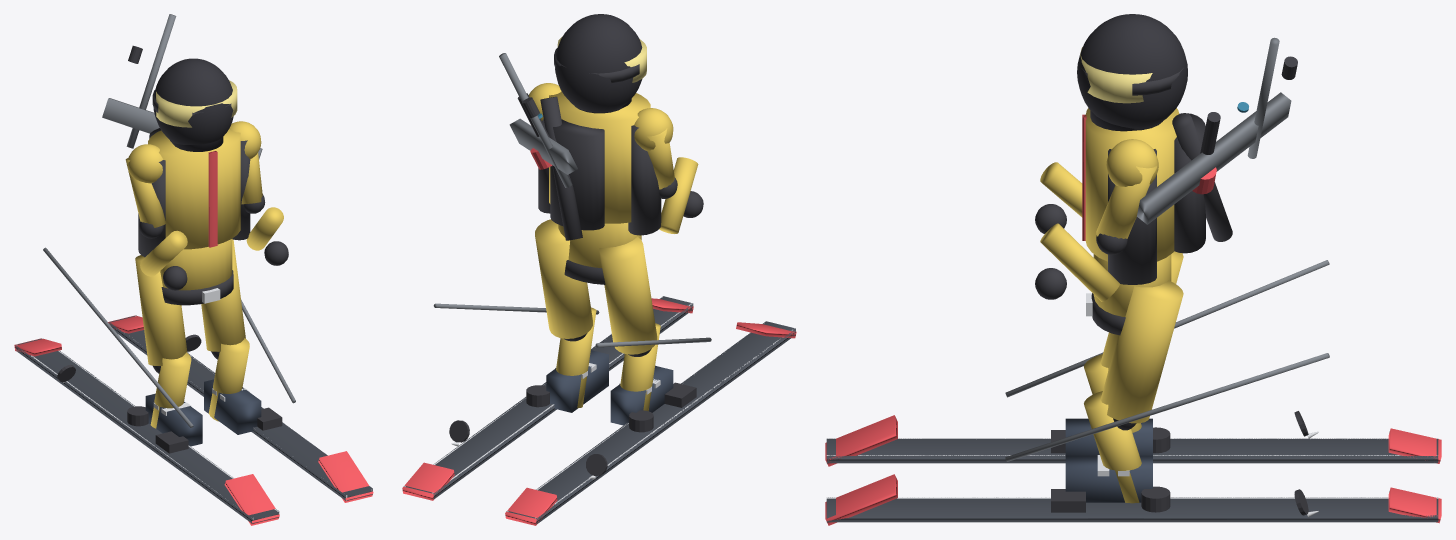
File: skier.glb
3 renders of one model, left to right at view 1: azimuth 30°, elevation 25°; view 2: azimuth 150°, elevation 25°; view 3: azimuth 270°, elevation 25°, orthographic. The views are drawn at different scales.
Parts seen in each view (by area): view 1: SkierChest, Ski_L, RacingHelmet, Ski_R, ThighL, ThighR, SkierWaist, BootR, ShinR, ShinL, SkiTip_R, BootL (+22 smaller); view 2: Ski_L, RacingHelmet, ThighL, Ski_R, SkierChest, ThighR, TacticalPack, FlankL, BootR, SkierWaist, BootL, RifleScabbard (+19 smaller); view 3: Ski_R, Ski_L, RacingHelmet, ThighR, SkierChest, HarpoonRifle_Body, BootR, ShinR, FlankR, Forearm_R, TacticalPack, UpperArm_R (+16 smaller).
Boxes of the visible parts, x1,y1,x2,y2 form: SkierChest: [148, 129, 240, 249]; Ski_L: [15, 338, 279, 523]; RacingHelmet: [153, 58, 233, 144]; Ski_R: [109, 315, 372, 500]; ThighL: [135, 255, 187, 365]; ThighR: [201, 239, 245, 351]; SkierWaist: [160, 239, 232, 290]; BootR: [204, 379, 261, 434]; ShinR: [208, 338, 249, 421]; ShinL: [150, 352, 191, 428]; SkiTip_R: [318, 451, 373, 502]; BootL: [145, 393, 202, 446]; Ski_L: [506, 321, 795, 524]; RacingHelmet: [555, 14, 642, 112]; ThighL: [599, 237, 657, 354]; Ski_R: [404, 296, 693, 499]; SkierChest: [549, 91, 650, 223]; ThighR: [535, 219, 592, 338]; TacticalPack: [550, 119, 604, 230]; FlankL: [628, 125, 661, 235]; BootR: [546, 350, 608, 412]; SkierWaist: [558, 222, 641, 267]; BootL: [610, 365, 673, 425]; RifleScabbard: [540, 96, 582, 240]; Ski_R: [826, 497, 1438, 522]; Ski_L: [826, 438, 1438, 463]; RacingHelmet: [1077, 14, 1187, 128]; ThighR: [1100, 280, 1183, 423]; SkierChest: [1085, 108, 1178, 261]; HarpoonRifle_Body: [1137, 92, 1291, 224]; BootR: [1065, 455, 1152, 502]; ShinR: [1084, 391, 1141, 503]; FlankR: [1108, 149, 1156, 284]; Forearm_R: [1040, 223, 1119, 301]; TacticalPack: [1174, 113, 1205, 253]; UpperArm_R: [1096, 165, 1157, 238].
Size of the model in its own units: 0.7742 by 1.78 by 2.12.
